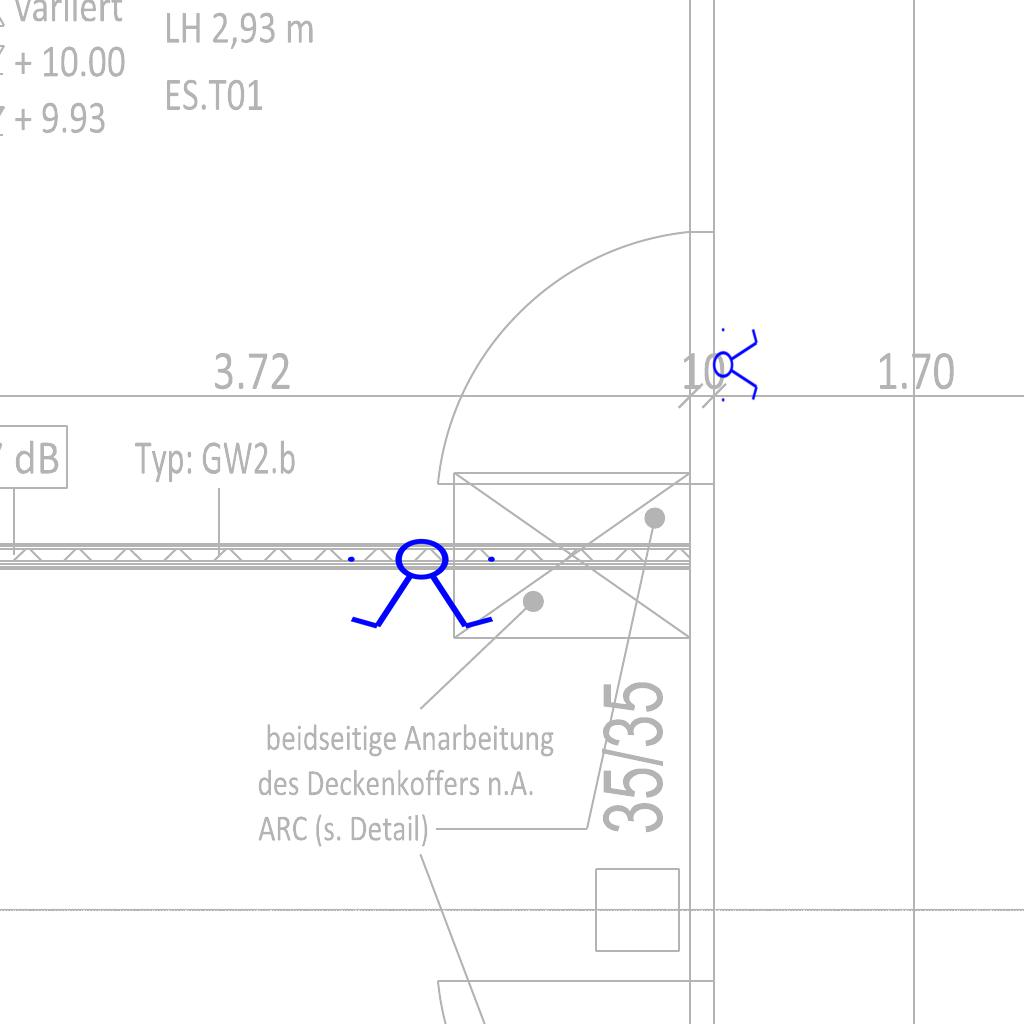Serienschalter: (339, 537, 507, 633), (712, 322, 760, 406)
